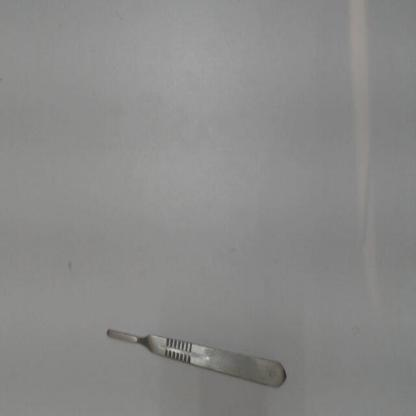No.4 BP Handle: (94, 319, 295, 395)
